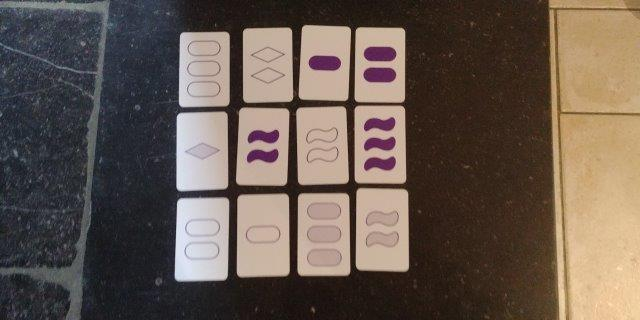1EP: (240, 196, 285, 272)
1FP: (302, 27, 345, 97)
1HD: (178, 117, 225, 186)
2ED: (246, 32, 289, 98)
2EP: (179, 202, 225, 277)
2EW: (299, 108, 345, 182)
2FP: (357, 29, 401, 99)
2FW: (240, 109, 283, 183)
2HW: (358, 191, 405, 268)
3EP: (181, 34, 226, 102)
3FW: (357, 107, 402, 180)
3HP: (300, 195, 346, 272)
